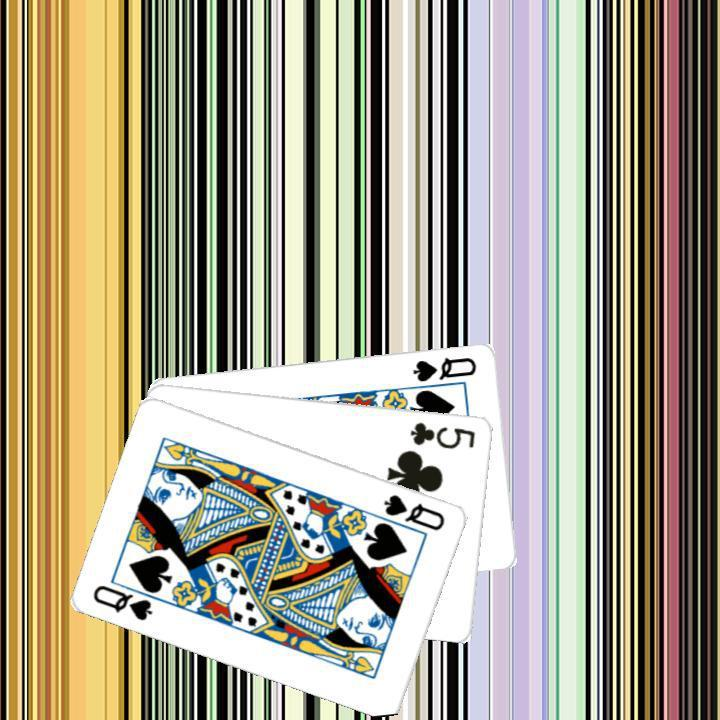5: (407, 417, 478, 450)
Q: (379, 489, 448, 533), (89, 580, 155, 623), (409, 352, 479, 383)
